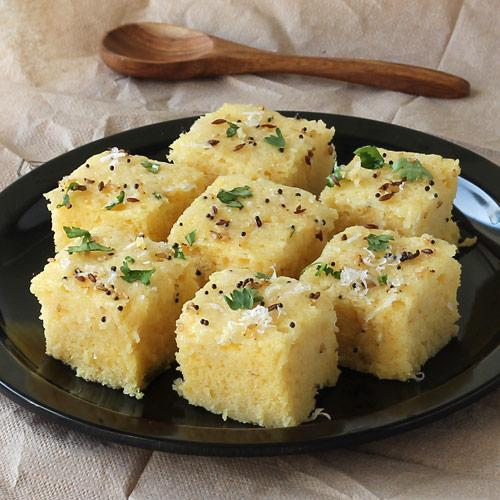dhokla: (50, 105, 487, 400)
